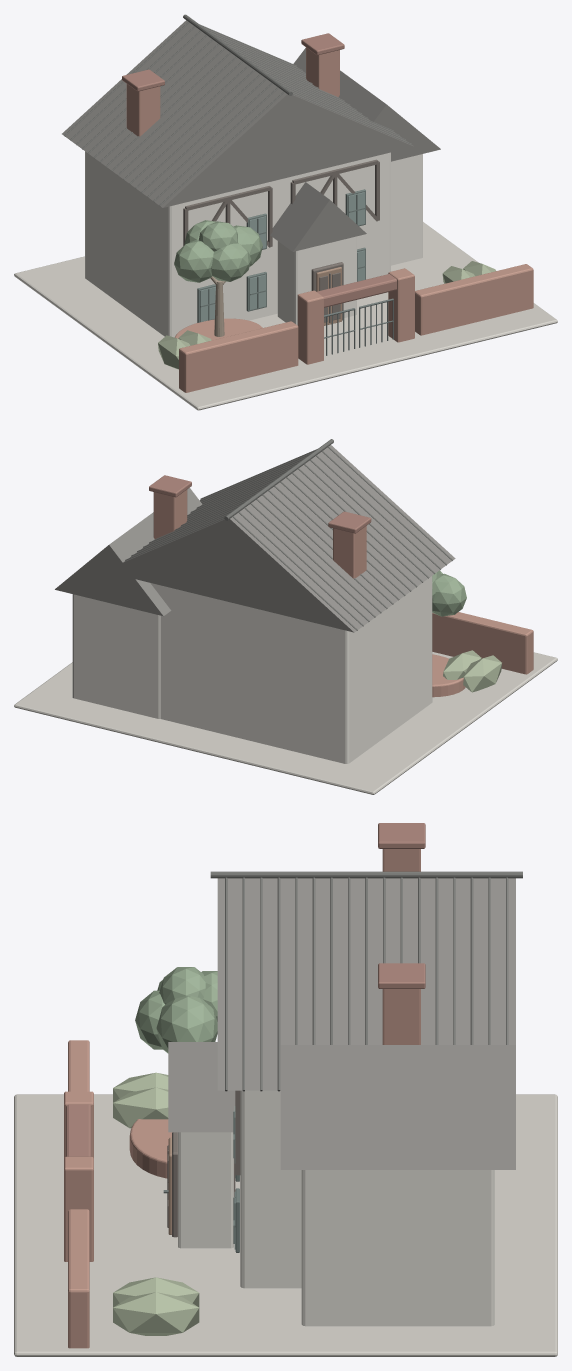
File: hudec-memorial.glb
3 renders of one model, top to bottom at view 1: azimuth 30°, elevation 25°; view 2: azimuth 150°, elevation 25°; view 3: azimuth 270°, elevation 25°, orthographic. The views are drawn at different scales.
Parts seen in each view (by area): view 1: hudec-memorial; view 2: hudec-memorial; view 3: hudec-memorial.
Part boxes in pixels (bbox=[...]): hudec-memorial: bbox=[14, 14, 557, 410]; hudec-memorial: bbox=[14, 439, 557, 794]; hudec-memorial: bbox=[14, 823, 557, 1356].
Bounding box in the file's own units: 17.5 × 10.74 × 15.5.
